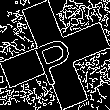P_N: (28, 25, 82, 85)
